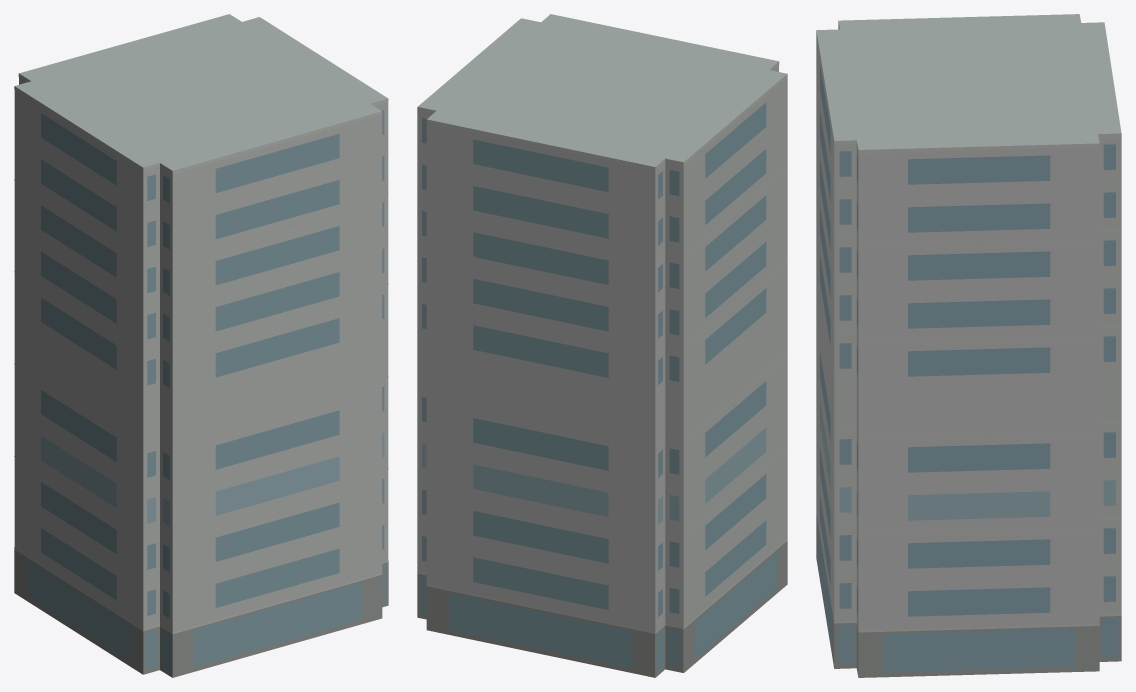
File: survey-upis-32735330.glb
3 views of the same model, side by side, from view 1: azimuth 30°, elevation 25°; view 2: azimuth 150°, elevation 25°; view 3: azimuth 270°, elevation 25° (orthographic). The views are drawn at different scales.
Parts seen in each view (by area): view 1: survey-upis-32735330.tmp; view 2: survey-upis-32735330.tmp; view 3: survey-upis-32735330.tmp.
Part boxes in pixels (x1,y1,x2,y2): survey-upis-32735330.tmp: [14, 14, 388, 677]; survey-upis-32735330.tmp: [417, 14, 787, 677]; survey-upis-32735330.tmp: [816, 14, 1121, 677].
Bounding box in the file's own units: 18.56 × 33.55 × 17.6.
